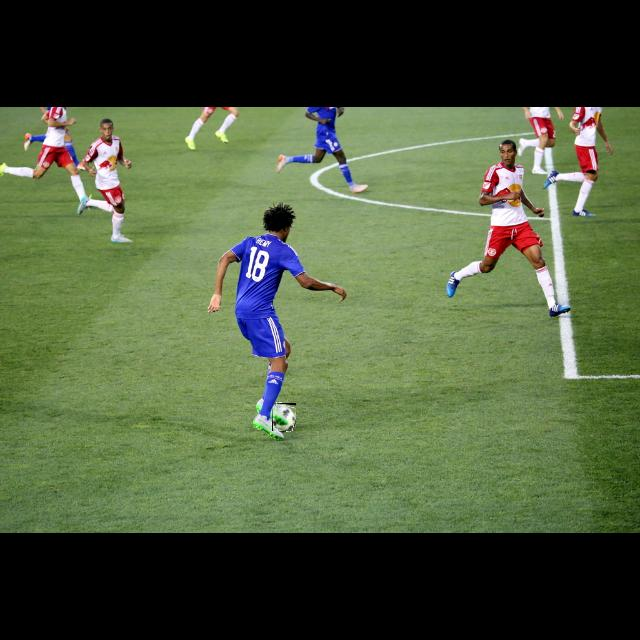Football: (272, 403, 296, 431)
